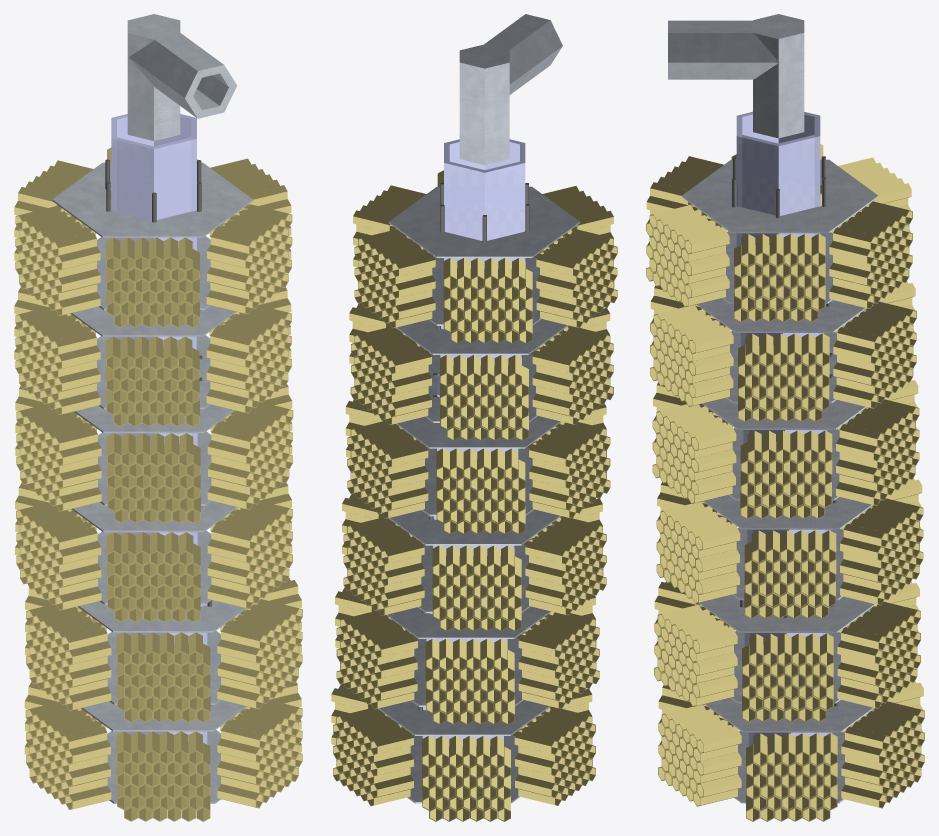
3 renders of one model, left to right at view 1: azimuth 30°, elevation 25°; view 2: azimuth 150°, elevation 25°; view 3: azimuth 270°, elevation 25°, orthographic. The views are drawn at different scales.
Visible parts, largest first — view 1: Hexagon (×50), SketchUp, Tower (×5), group_0; view 2: Hexagon (×38), Tower (×5), SketchUp, group_0; view 3: Hexagon (×44), SketchUp, Tower (×5), group_0.
Boxes of the visible parts, box(x1,y1,x2,y2) form: Hexagon (×50): box(18, 185, 287, 809); SketchUp: box(52, 24, 253, 310); Tower (×5): box(71, 305, 260, 803); group_0: box(127, 14, 180, 140); Hexagon (×38): box(353, 210, 613, 797); Tower (×5): box(378, 319, 568, 803); SketchUp: box(389, 14, 579, 325); group_0: box(459, 45, 509, 164); Hexagon (×44): box(650, 182, 911, 808); SketchUp: box(668, 20, 878, 303); Tower (×5): box(692, 298, 875, 803); group_0: box(753, 14, 804, 138).
Bounding box in the file's own units: 155 × 450 × 155.
6 materials, 2 textured.
